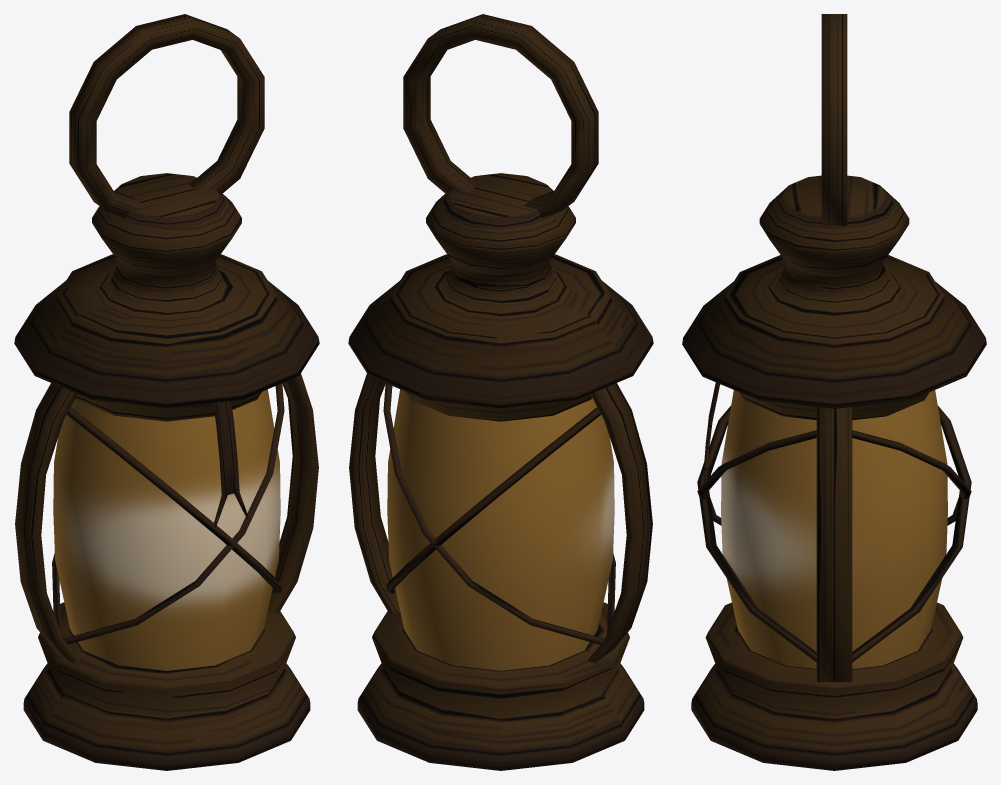
Rendered from Lantern.fbx.
3 renders of one model, left to right at view 1: azimuth 30°, elevation 25°; view 2: azimuth 150°, elevation 25°; view 3: azimuth 270°, elevation 25°, orthographic.
Parts seen in each view (by area): view 1: Lantern; view 2: Lantern; view 3: Lantern.
Boxes of the visible parts, left/top/right/bottom form: Lantern: left=14, top=14, right=319, bottom=770; Lantern: left=348, top=14, right=653, bottom=770; Lantern: left=682, top=14, right=986, bottom=770.
Size of the model in its own units: 0.3656 by 0.3381 by 0.838.
2 materials, 2 textured.
